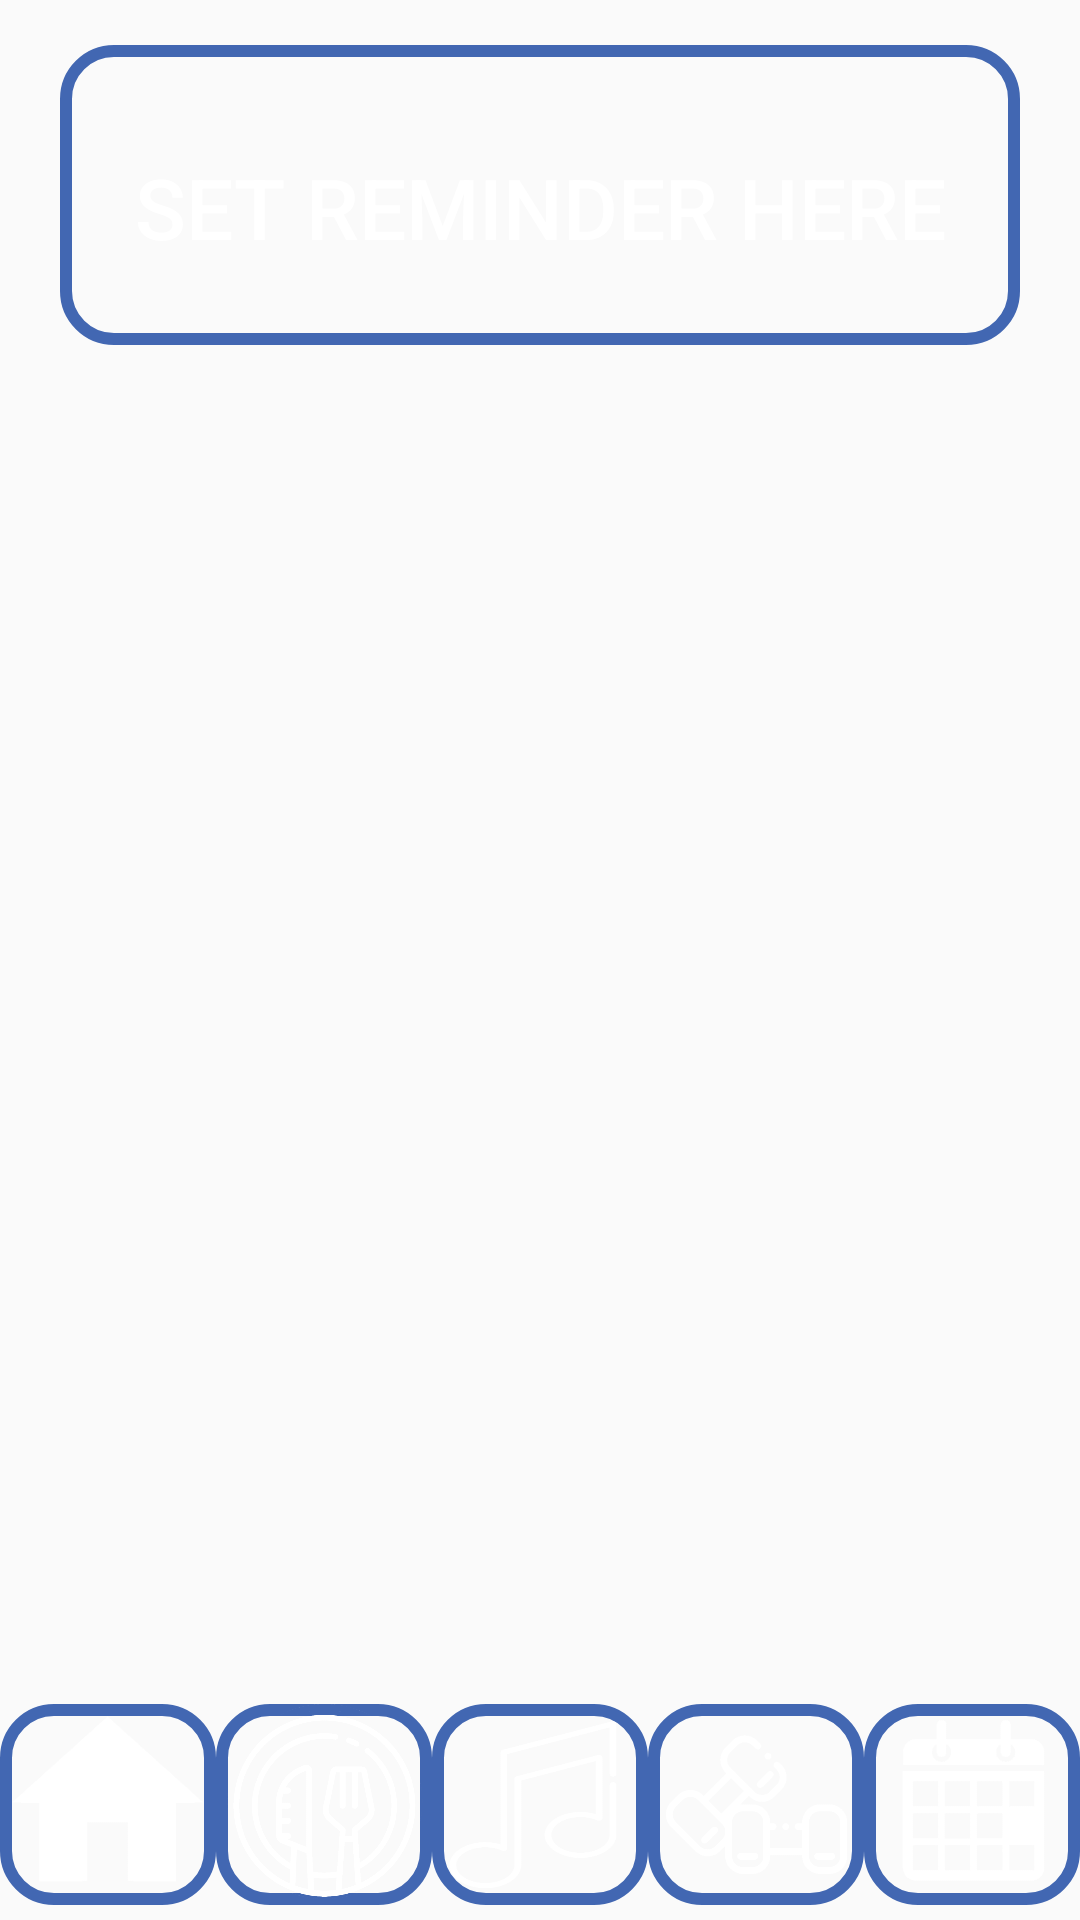

Where icons sit on this 1080 x 1920 app screen, as (x1, y1, x2, y2):
food: (216, 1704, 432, 1905)
home: (0, 1704, 216, 1905)
music: (432, 1704, 648, 1905)
planner: (864, 1704, 1080, 1905)
workout: (648, 1704, 864, 1905)
